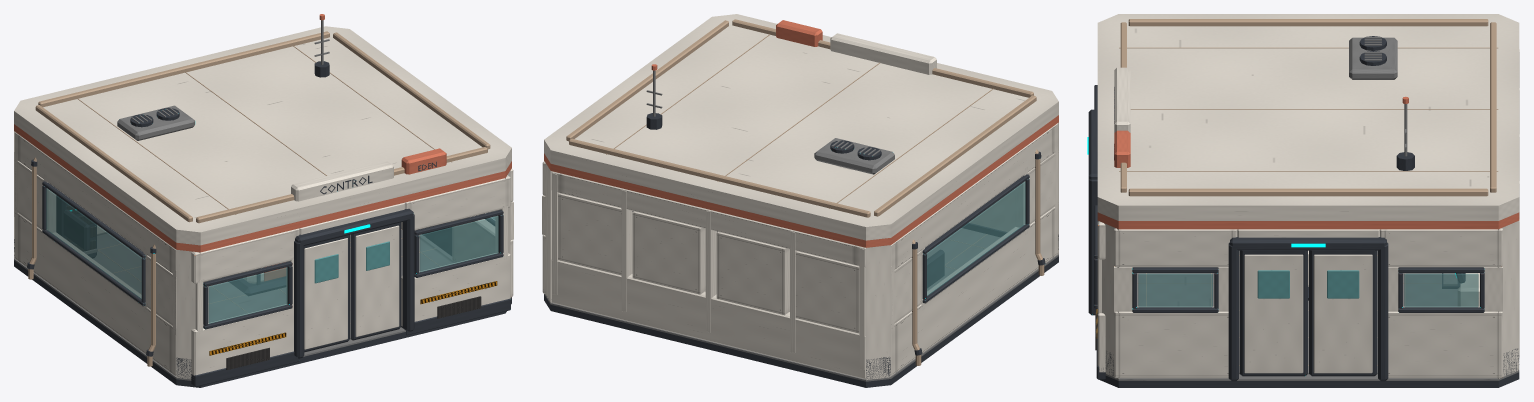
File: control_room_v001.glb
3 renders of one model, left to right at view 1: azimuth 30°, elevation 25°; view 2: azimuth 150°, elevation 25°; view 3: azimuth 270°, elevation 25°, orthographic. The views are drawn at different scales.
Visible parts, largest first — view 1: TET_Control, ARQ_Control_Parede_S, ARQ_Control_Parede_O, VID_Control, PIS_Control, D_Control_S_B, PROP_Control_Telhado, D_Control_S_A, ARQ_Control_Portal_S, ARQ_Control_Cantos, ARQ_Control_Parede_L, PROP_Control_Console (+3 smaller); view 2: TET_Control, ARQ_Control_Parede_N, ARQ_Control_Parede_O, PIS_Control, PROP_Control_Telhado, ARQ_Control_Cantos, VID_Control, ARQ_Control_Parede_S, ARQ_Control_Parede_L, PROP_Control_Telas; view 3: TET_Control, ARQ_Control_Parede_L, PIS_Control, D_Control_L_A, D_Control_L_B, VID_Control, ARQ_Control_Portal_L, PROP_Control_Telhado, ARQ_Control_Cantos, ARQ_Control_Parede_S, ARQ_Control_Portal_S, PROP_Control_Consoles_N.
Part boxes in pixels (x1,y1,x2,y2): TET_Control: [14, 26, 511, 252]; ARQ_Control_Parede_S: [191, 175, 510, 386]; ARQ_Control_Parede_O: [14, 132, 176, 376]; VID_Control: [46, 188, 498, 323]; PIS_Control: [14, 229, 511, 387]; D_Control_S_B: [350, 222, 401, 340]; PROP_Control_Telhado: [117, 14, 446, 201]; D_Control_S_A: [304, 235, 349, 352]; ARQ_Control_Portal_S: [294, 208, 414, 358]; ARQ_Control_Cantos: [14, 131, 511, 379]; ARQ_Control_Parede_L: [452, 169, 513, 296]; PROP_Control_Console: [224, 263, 286, 295]; TET_Control: [544, 14, 1058, 247]; ARQ_Control_Parede_N: [551, 171, 865, 379]; ARQ_Control_Parede_O: [891, 123, 1058, 376]; PIS_Control: [544, 228, 1058, 387]; PROP_Control_Telhado: [646, 20, 936, 174]; ARQ_Control_Cantos: [544, 122, 1058, 380]; VID_Control: [926, 181, 1025, 295]; ARQ_Control_Parede_S: [961, 189, 1014, 236]; ARQ_Control_Parede_L: [542, 161, 545, 293]; PROP_Control_Telas: [632, 211, 944, 287]; TET_Control: [1097, 14, 1519, 229]; ARQ_Control_Parede_L: [1114, 228, 1502, 378]; PIS_Control: [1099, 250, 1519, 387]; D_Control_L_A: [1239, 250, 1307, 376]; D_Control_L_B: [1309, 250, 1377, 376]; VID_Control: [1138, 273, 1478, 307]; ARQ_Control_Portal_L: [1228, 237, 1388, 381]; PROP_Control_Telhado: [1114, 36, 1414, 170]; ARQ_Control_Cantos: [1097, 221, 1519, 378]; ARQ_Control_Parede_S: [1094, 85, 1105, 379]; ARQ_Control_Portal_S: [1088, 109, 1097, 315]; PROP_Control_Consoles_N: [1442, 267, 1484, 306].
Bounding box in the file's own units: 7.32 × 4.28 × 6.67.
Materials: 2 (2 with a texture image).
